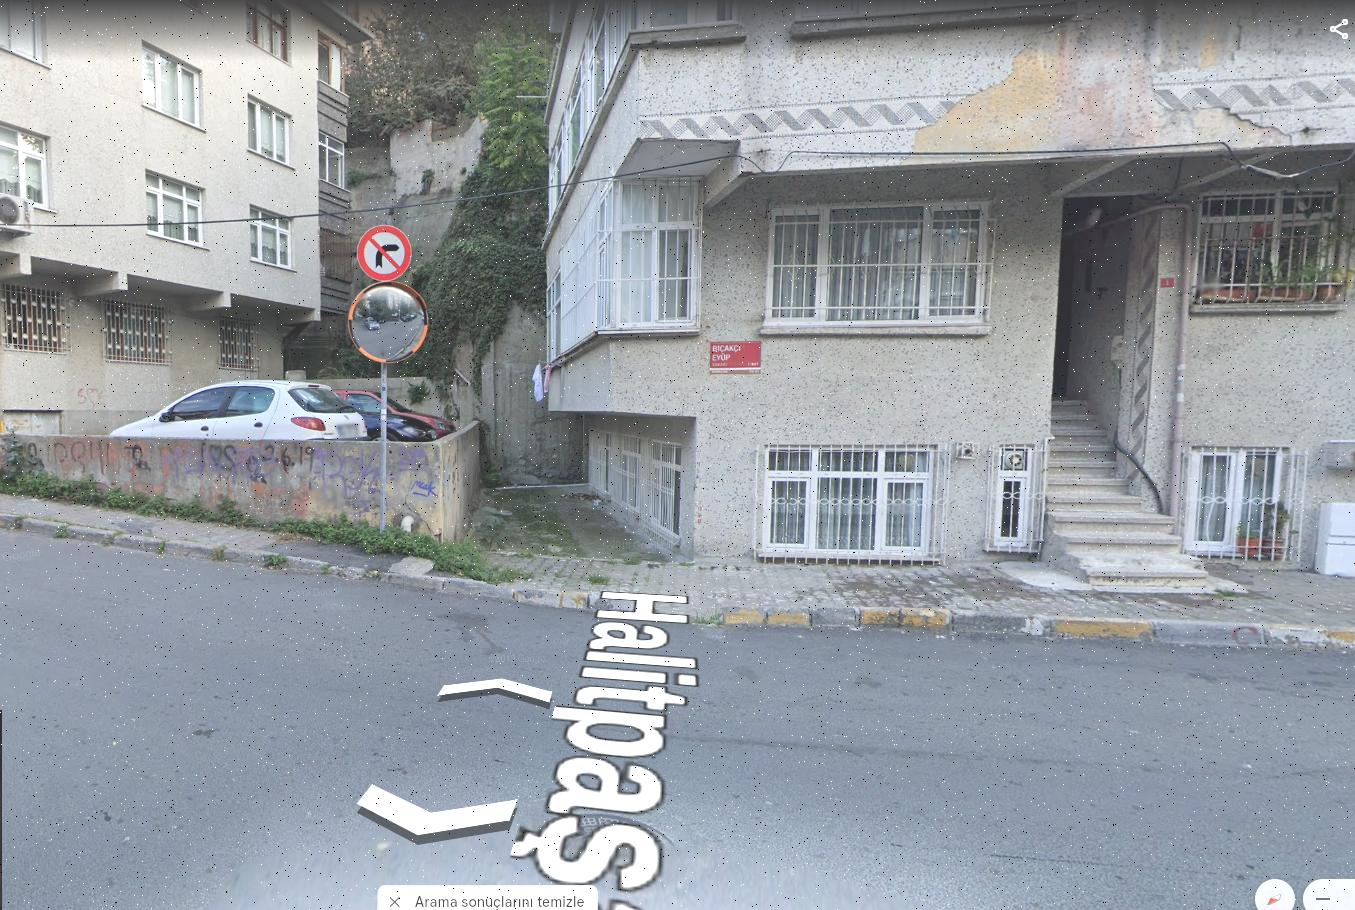rightturnsareforbidden: (360, 225, 412, 276)
